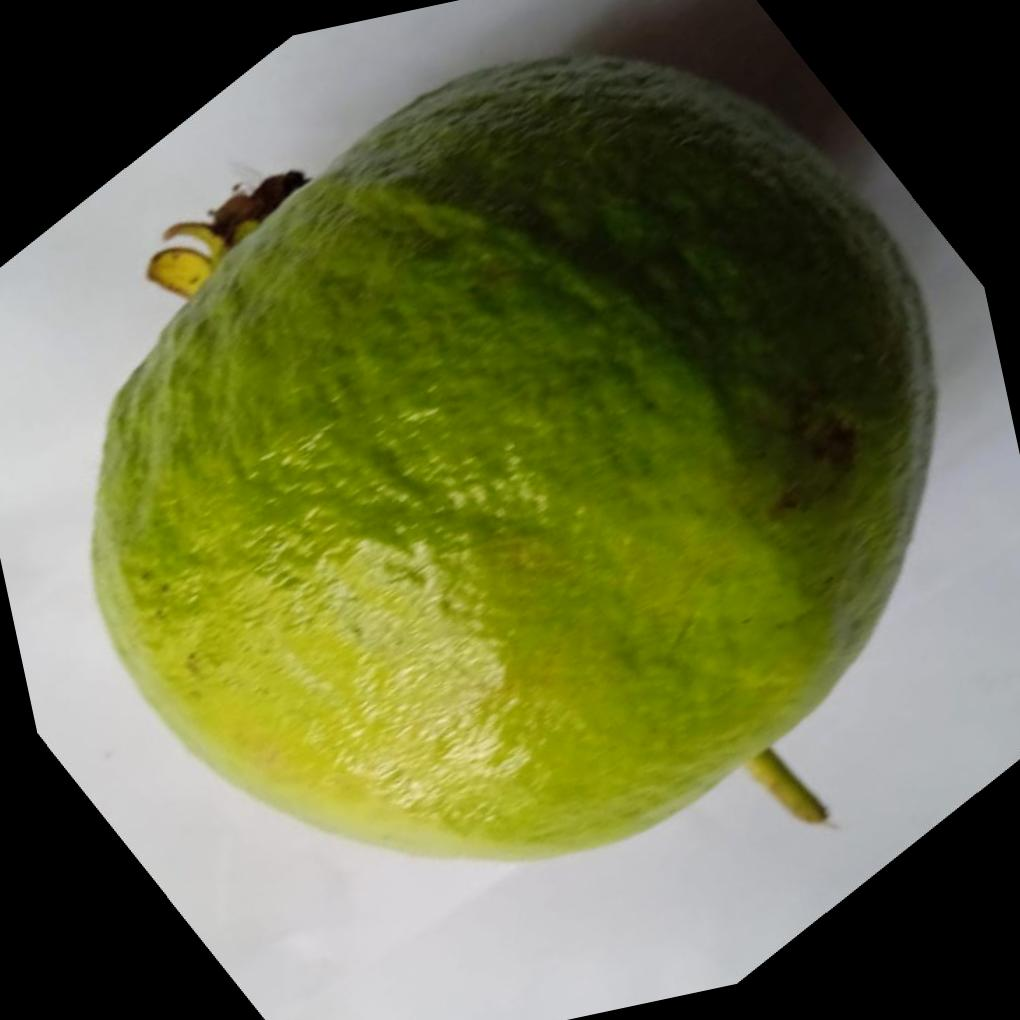FreshGuava: (85, 49, 934, 866)
